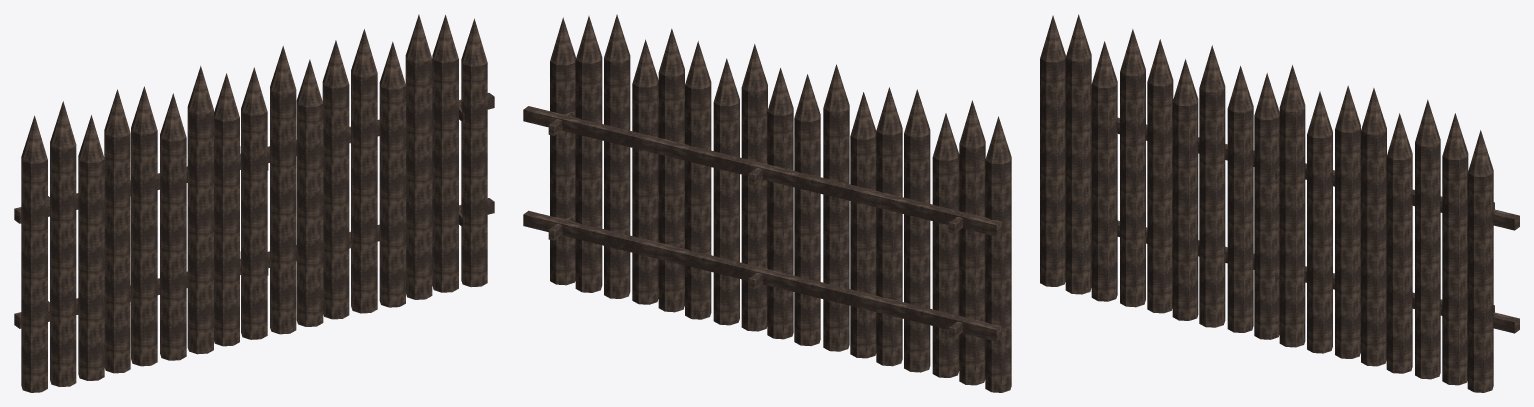
File: prop_palisade.glb
The picture shows the model from 3 angles, left to right: view 1: azimuth 30°, elevation 25°; view 2: azimuth 150°, elevation 25°; view 3: azimuth 330°, elevation 25°; orthographic projection. The views are drawn at different scales.
Parts seen in each view (by area): view 1: prop_palisade; view 2: prop_palisade; view 3: prop_palisade.
Boxes of the visible parts, x1,y1,x2,y2 form: prop_palisade: [14, 14, 494, 392]; prop_palisade: [523, 14, 1011, 392]; prop_palisade: [1040, 14, 1519, 392].
Bounding box in the file's own units: 5.23 × 2.97 × 0.5399.
Materials: 1 (1 with a texture image).
